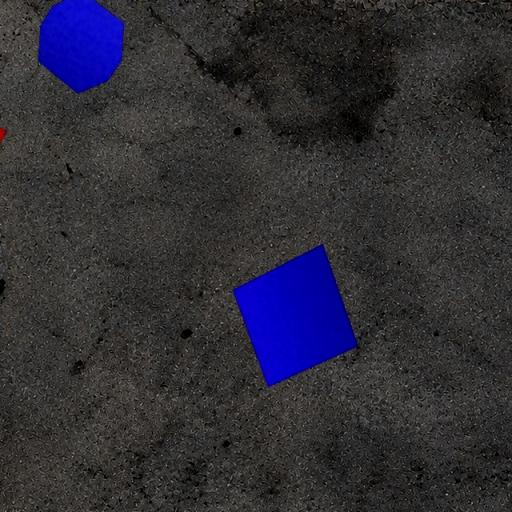BLUE_SQUARE: (232, 243, 358, 388)
